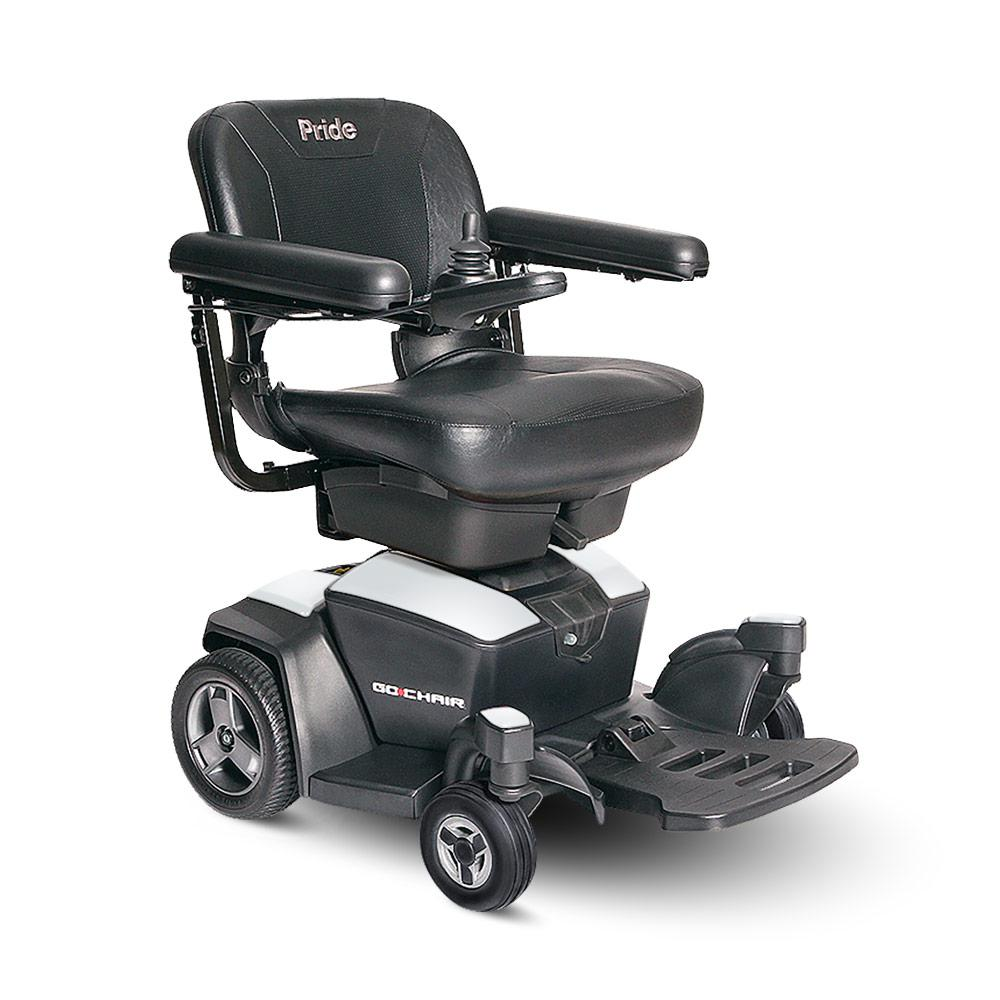chair: (111, 82, 897, 935)
